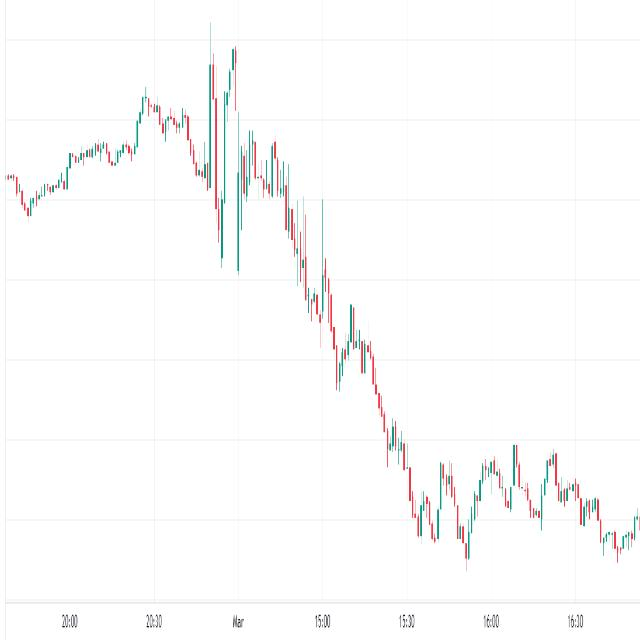Ascending-Triangle: (431, 441, 612, 640)
